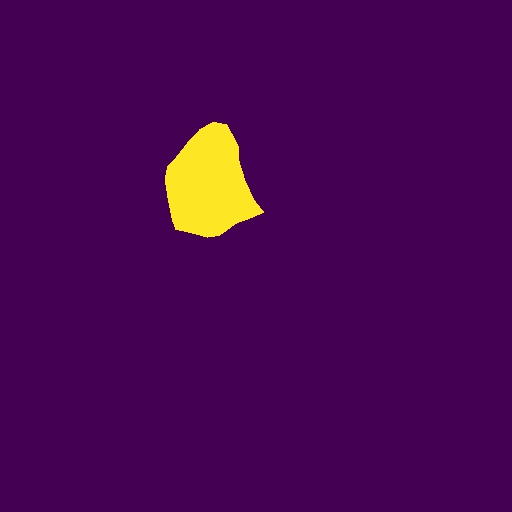Gliomia_tumour: (165, 122, 264, 238)
